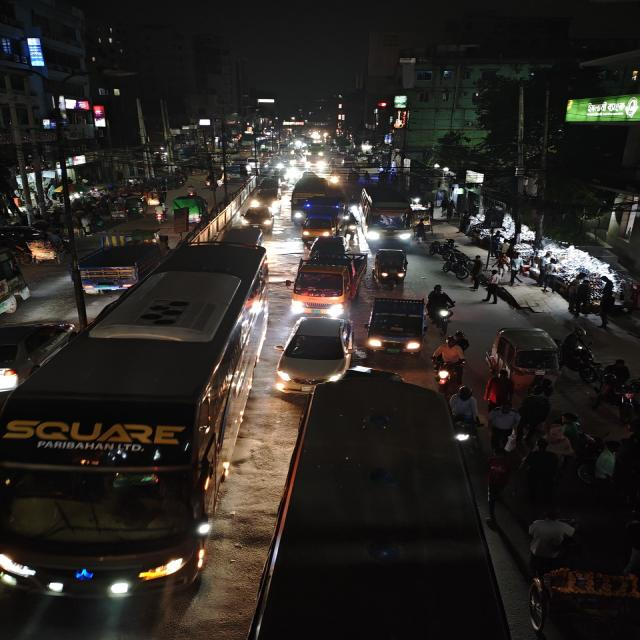bus: (0, 237, 258, 599), (262, 379, 507, 640), (357, 185, 418, 245), (0, 241, 33, 323), (289, 175, 319, 226)
car: (272, 313, 358, 394), (0, 316, 72, 390), (248, 177, 283, 210), (240, 206, 276, 230)
cng: (485, 324, 563, 391), (372, 246, 411, 288), (124, 196, 147, 217)
motorcycle: (594, 357, 638, 418), (446, 384, 481, 452), (561, 328, 602, 384), (431, 335, 467, 386), (426, 284, 456, 330), (154, 204, 169, 223)
pedestrian: (522, 506, 578, 570), (520, 439, 562, 505), (593, 357, 636, 415), (512, 392, 551, 451), (487, 402, 518, 452), (425, 283, 455, 328), (479, 269, 506, 305)
pickup_van: (290, 235, 358, 317), (71, 234, 160, 296), (364, 295, 430, 357)
rickshaw: (522, 505, 640, 640), (20, 225, 70, 265)
truck: (297, 201, 345, 239)
